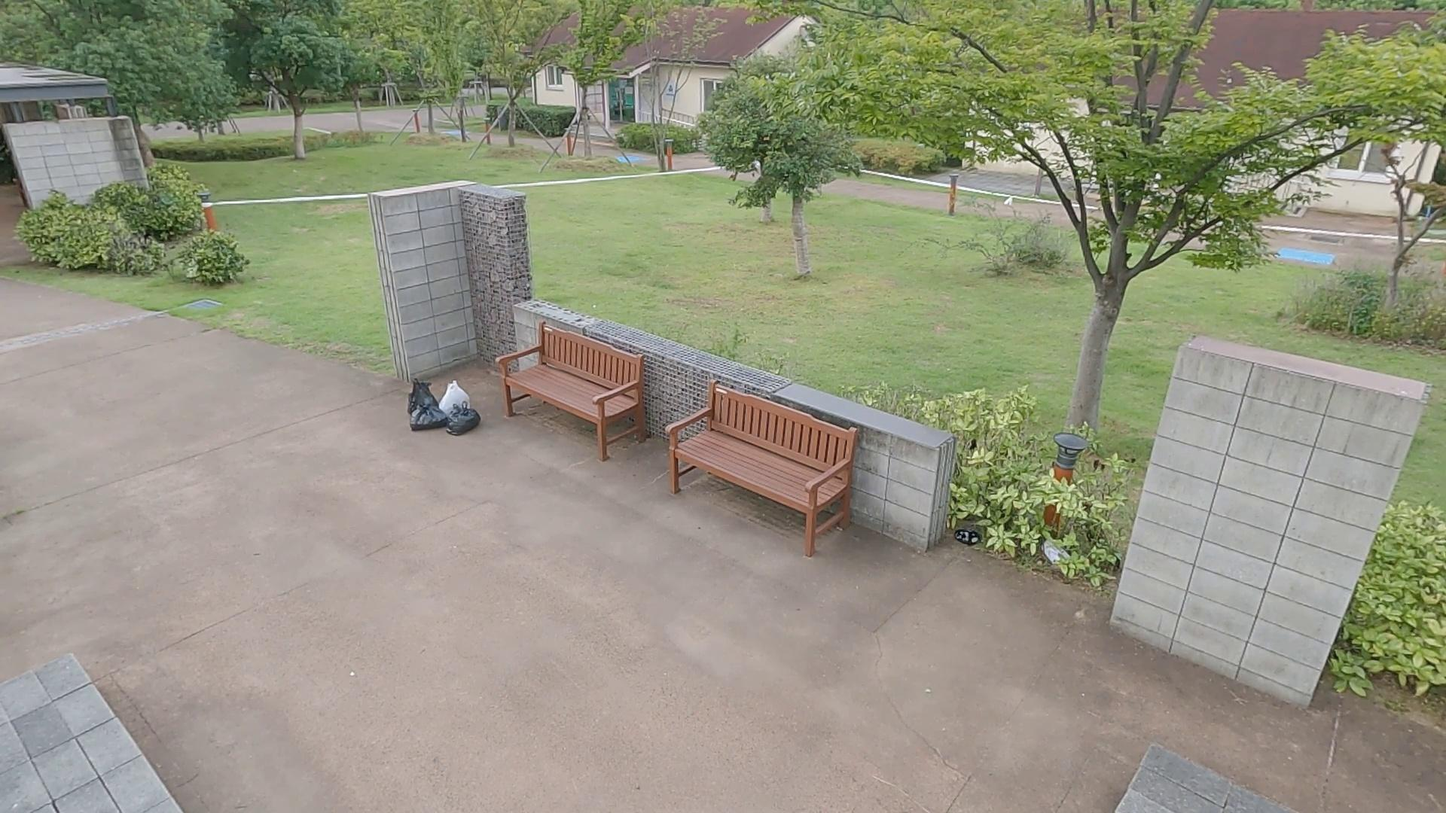trash: (437, 377, 474, 419), (443, 399, 482, 437), (407, 401, 451, 433), (406, 377, 440, 418), (1039, 538, 1074, 571), (952, 526, 983, 552)
